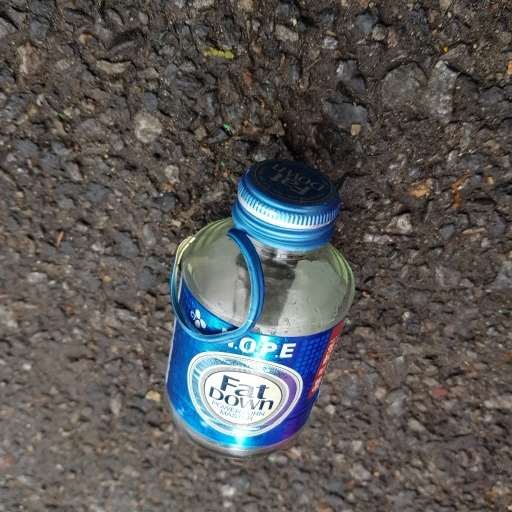Glass_4: (163, 154, 356, 461)
